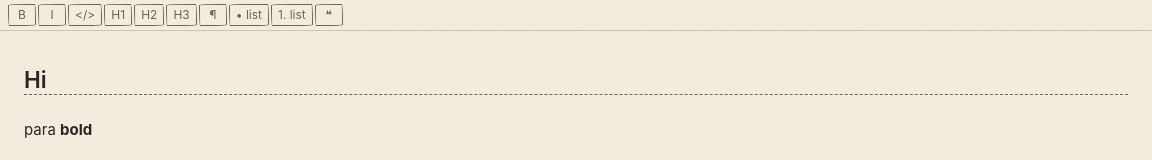
Test case: wysiwyg-markdown — component › renders blurred blocks as HTML and reveals raw source on click
# Click the heading: Typora-style raw source appears in a textarea.
Press the mouse on the element showing "Hi" at (576, 80), box [24, 65, 1128, 95]
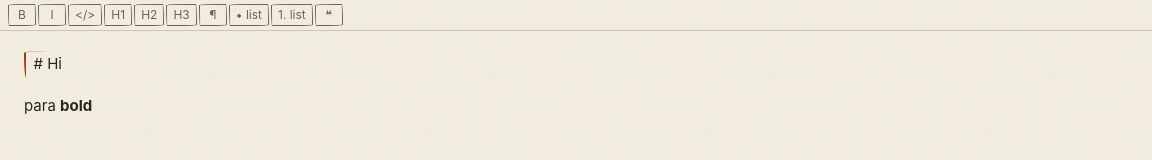
Now the text box is shown
Now the text box holds "# Hi"
# Blur renders it back.
Leave the text box, box [24, 51, 1128, 77]
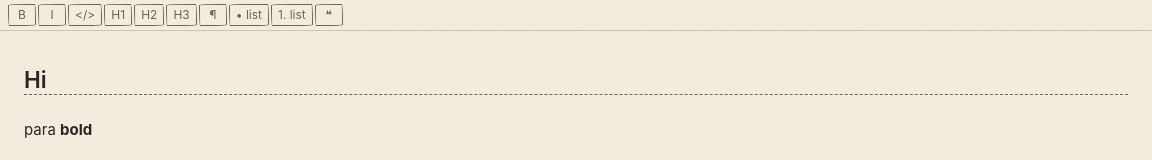
Now the text box is gone
